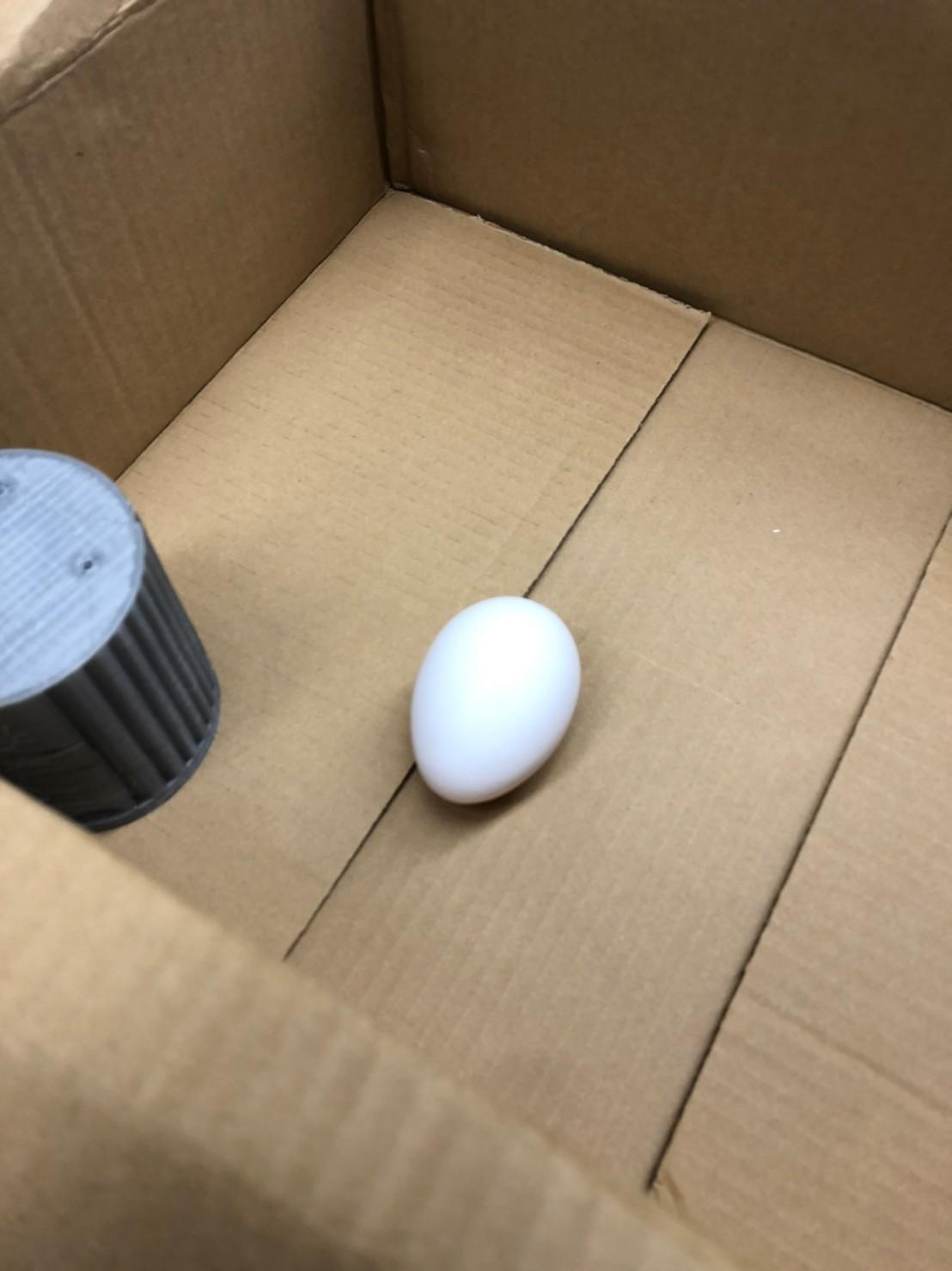egg: (404, 586, 586, 813)
